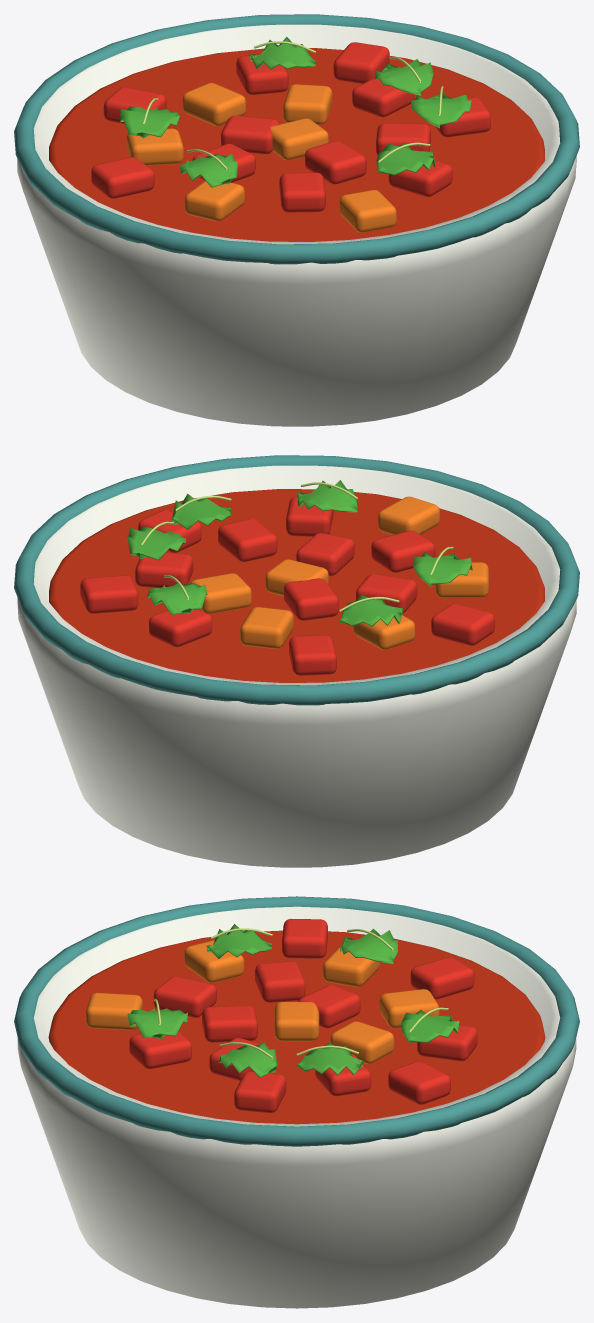
Rendered from salsa.glb.
The picture shows the model from 3 angles, top to bottom: view 1: azimuth 30°, elevation 25°; view 2: azimuth 150°, elevation 25°; view 3: azimuth 270°, elevation 25°; orthographic projection.
Visible parts, largest first — view 1: salsa_mesh; view 2: salsa_mesh; view 3: salsa_mesh.
Boxes of the visible parts, x1,y1,x2,y2 form: salsa_mesh: (14, 14, 579, 426); salsa_mesh: (14, 455, 579, 867); salsa_mesh: (14, 896, 579, 1308).
Size of the model in its own units: 0.238 by 0.113 by 0.238.
